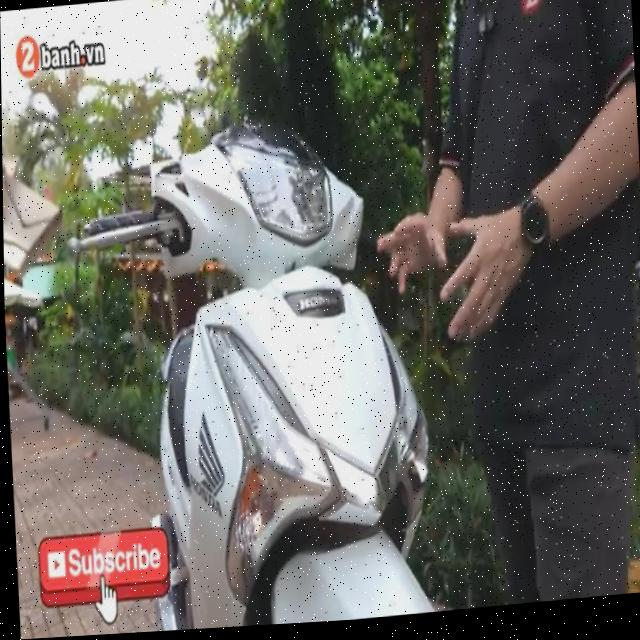motorcycle: (59, 109, 448, 637)
